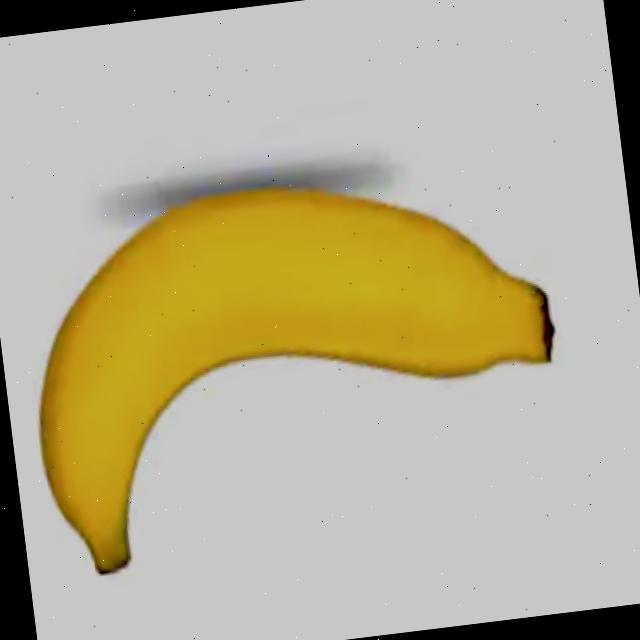banana: (12, 150, 579, 582)
